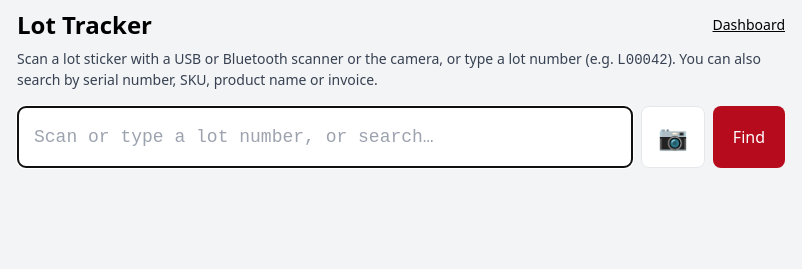
it: the journey › unknown lot → a clear message
In the field named "Lot number or search": [325, 137] box [17,106,633,168], type "L99999"
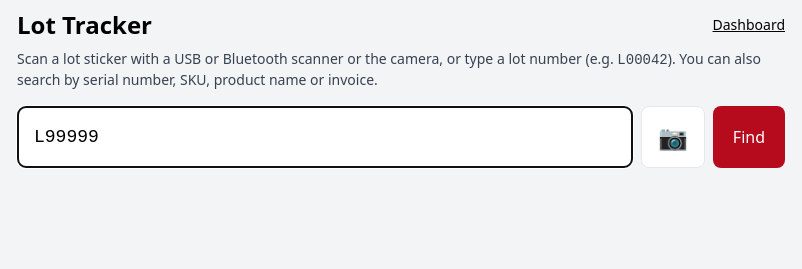
Submit the form, box [17,106,785,168]
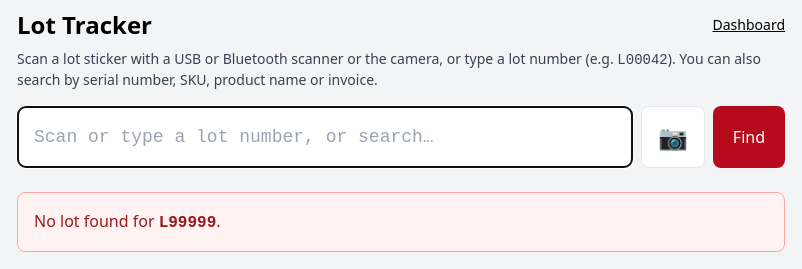
Expected: the message shows "No lot found for L99999", [17,192,785,252]
